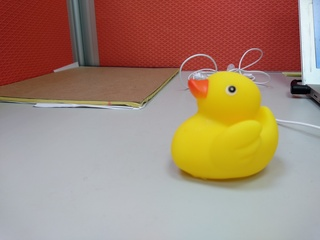duck: (164, 68, 281, 185)
